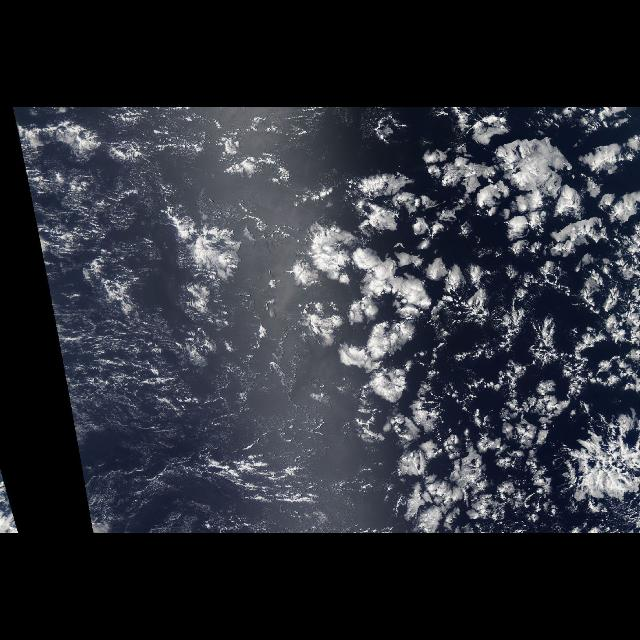Flower: (295, 117, 639, 529)
Gravel: (61, 124, 286, 336)
Sugar: (71, 343, 283, 532)
